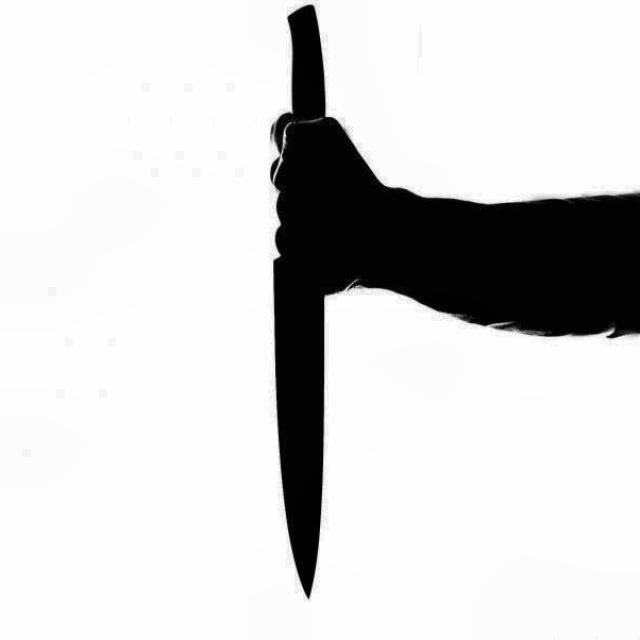knife: (271, 0, 330, 607)
